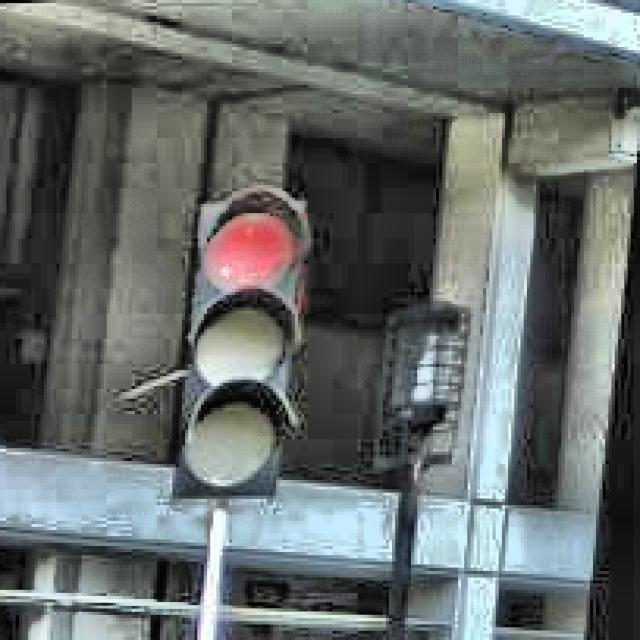red: (180, 175, 322, 496)
